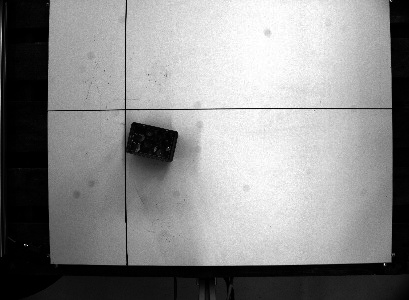kltxs: (121, 119, 181, 165)
